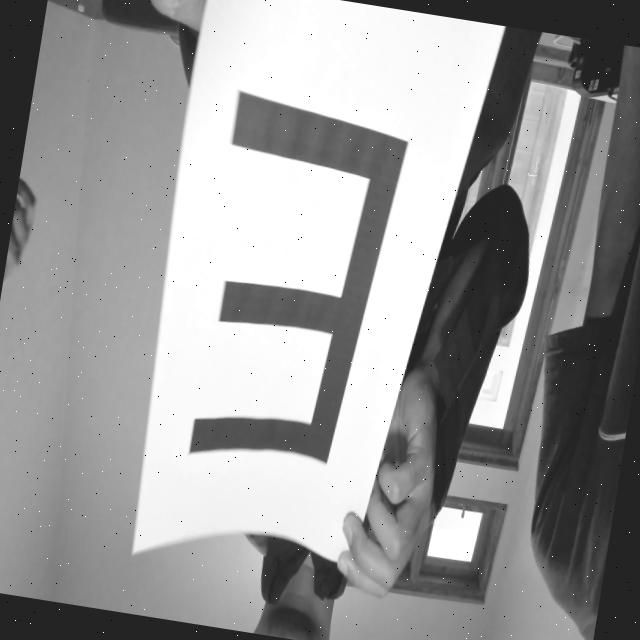e: (174, 71, 418, 486)
